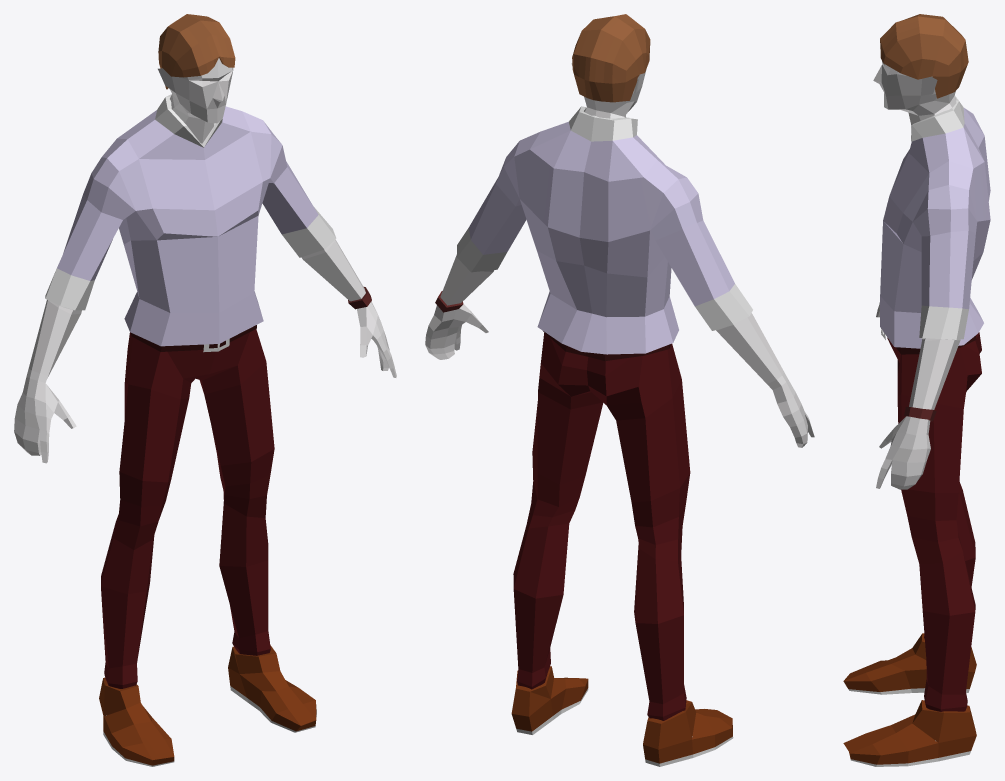
Rendered from hero2.gltf.
3 views of the same model, side by side, from view 1: azimuth 30°, elevation 25°; view 2: azimuth 150°, elevation 25°; view 3: azimuth 270°, elevation 25° (orthographic).
Visible parts, largest first — view 1: PERS, maika_Circle.002, obyv, volos; view 2: PERS, maika_Circle.002, obyv, volos; view 3: PERS, maika_Circle.002, obyv, volos, braslet.
Boxes of the visible parts, x1=… form: PERS: x1=14, y1=58, x2=396, y2=715; maika_Circle.002: x1=45, y1=94, x2=336, y2=346; obyv: x1=99, y1=645, x2=316, y2=766; volos: x1=158, y1=14, x2=235, y2=89; PERS: x1=425, y1=63, x2=814, y2=736; maika_Circle.002: x1=457, y1=106, x2=752, y2=354; obyv: x1=511, y1=666, x2=733, y2=766; volos: x1=572, y1=14, x2=650, y2=102; PERS: x1=873, y1=61, x2=981, y2=740; maika_Circle.002: x1=880, y1=95, x2=990, y2=348; obyv: x1=843, y1=633, x2=976, y2=766; volos: x1=880, y1=14, x2=968, y2=98; braslet: x1=904, y1=406, x2=936, y2=421.
Bounding box in the file's own units: 1.96 × 3.55 × 0.6733.
